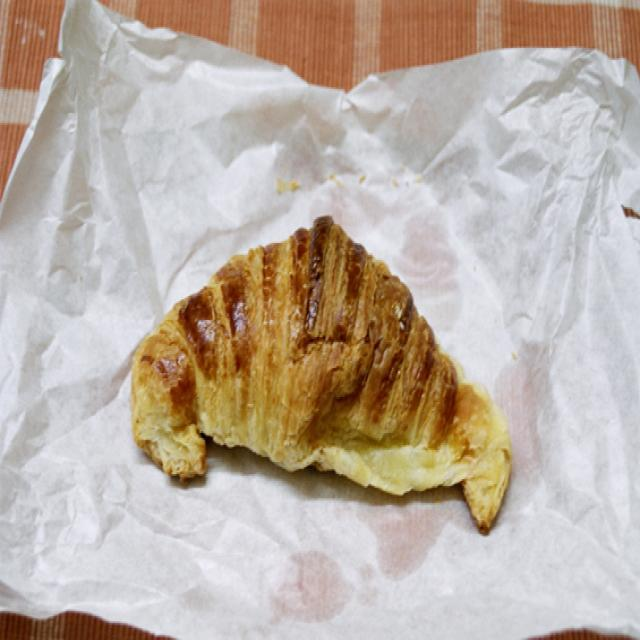Croissant: (124, 214, 512, 548)
